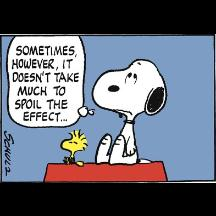snoopy: (91, 56, 169, 166)
